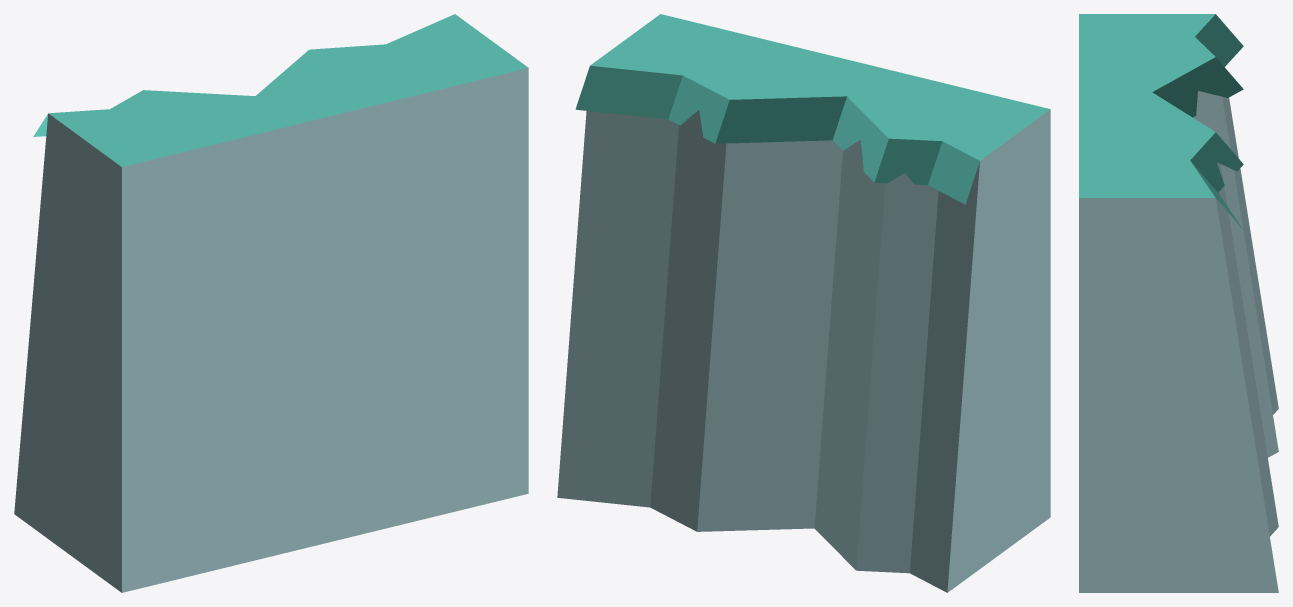
Rendered from cliffGrey_top.obj.
3 renders of one model, left to right at view 1: azimuth 30°, elevation 25°; view 2: azimuth 150°, elevation 25°; view 3: azimuth 270°, elevation 25°, orthographic. The views are drawn at different scales.
Parts seen in each view (by area): view 1: cliffGrey_top; view 2: cliffGrey_top; view 3: cliffGrey_top.
Part boxes in pixels (bbox=[...]): cliffGrey_top: bbox=[14, 14, 528, 592]; cliffGrey_top: bbox=[557, 14, 1050, 592]; cliffGrey_top: bbox=[1079, 14, 1278, 592].
Bounding box in the file's own units: 10 × 10 × 4.58.
